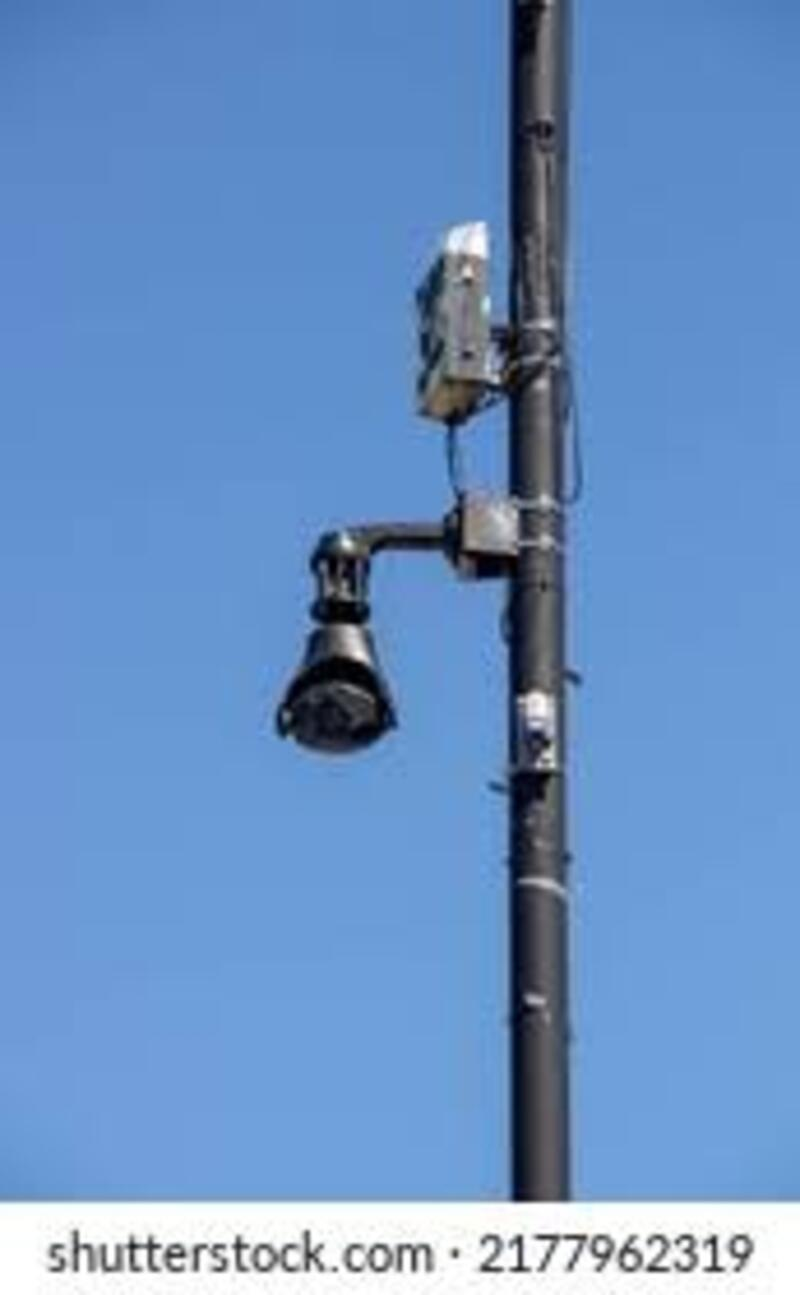dome: (260, 620, 407, 778)
